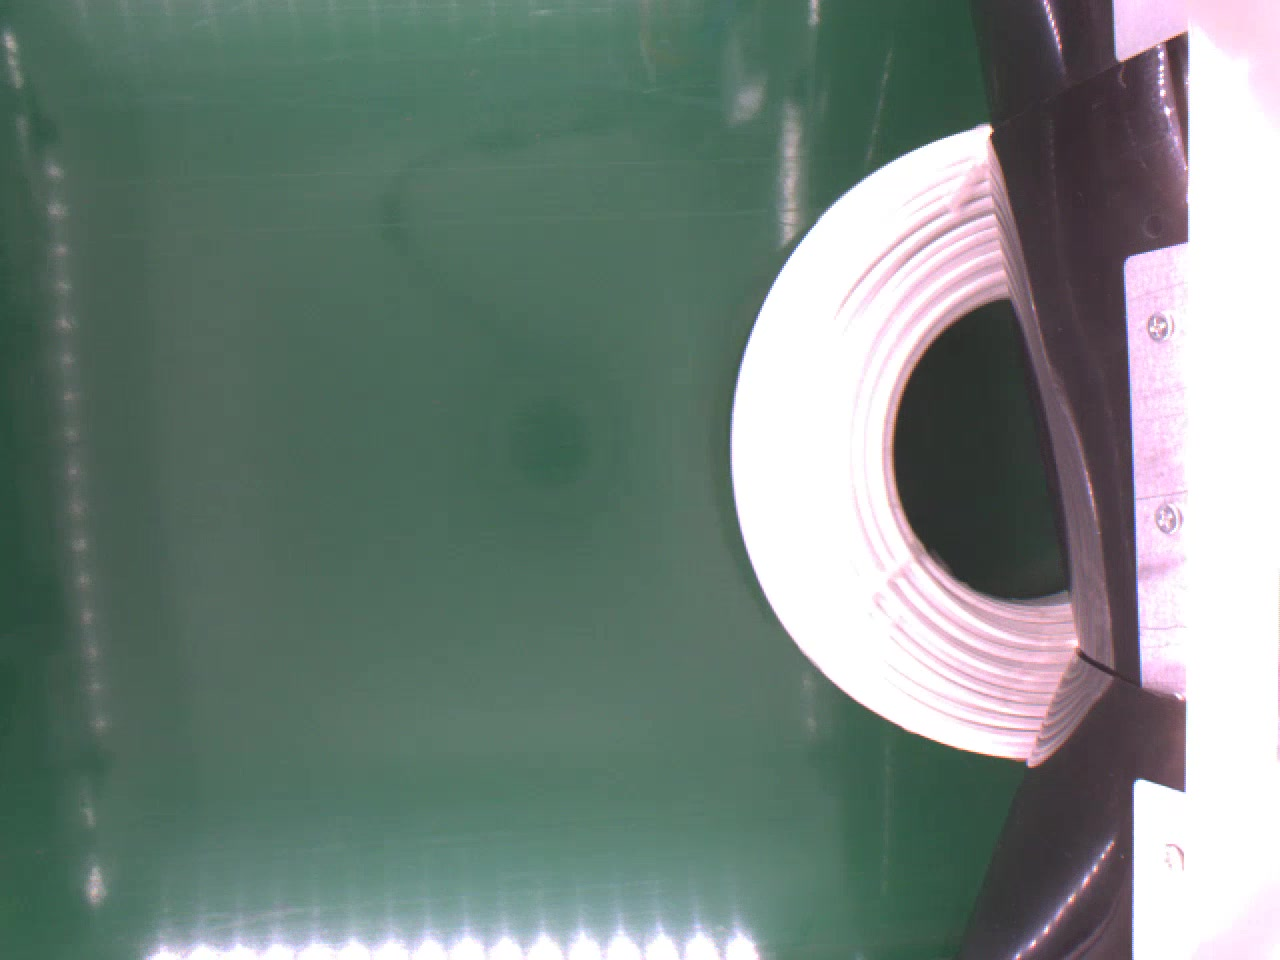white: (722, 120, 1079, 762)
